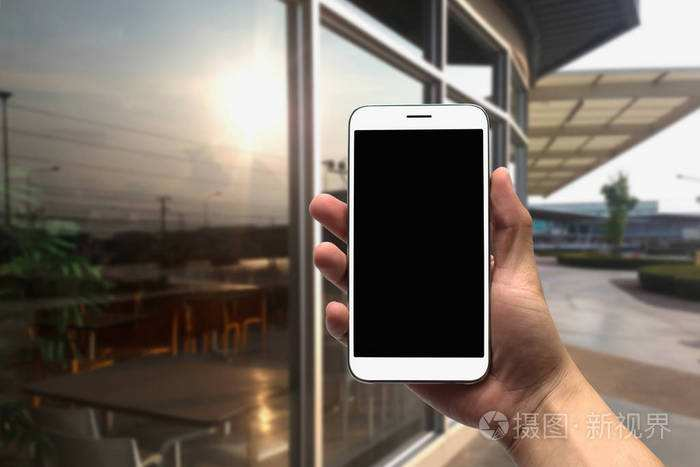phone: (312, 99, 570, 428)
